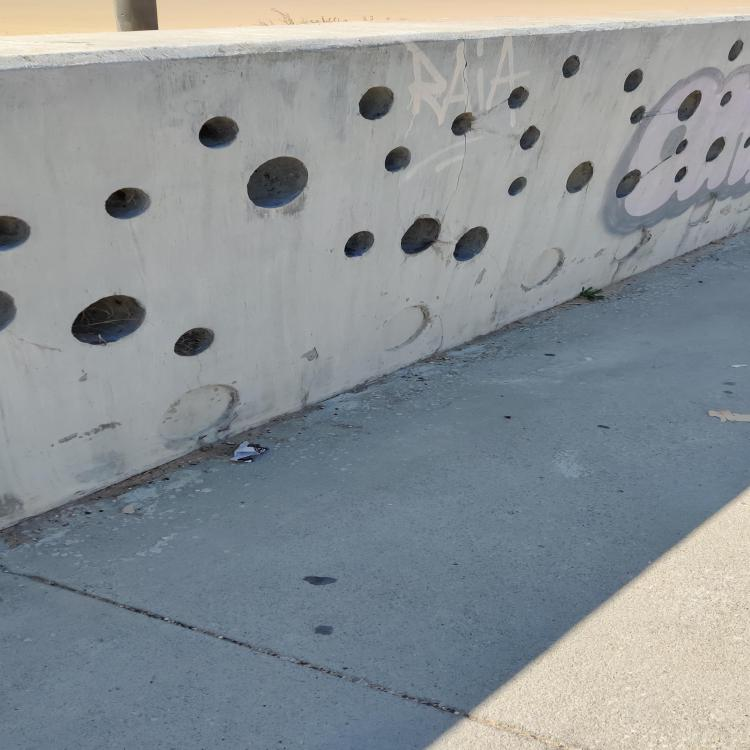Other plastic: (230, 441, 268, 461)
